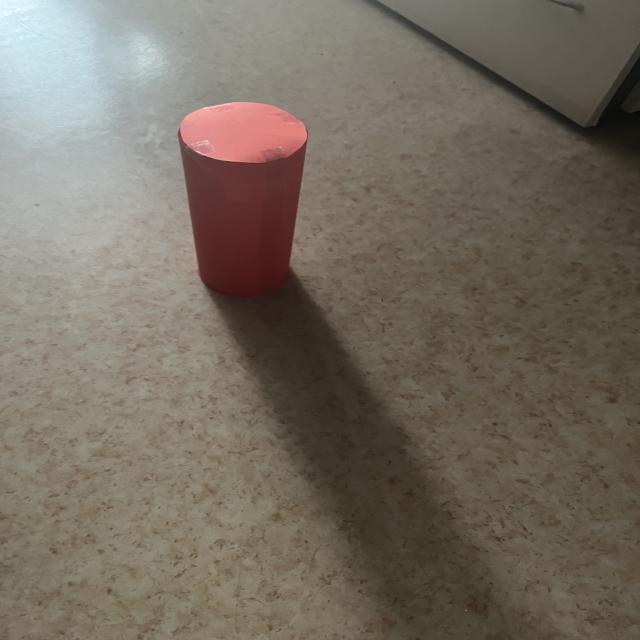przeszkoda: (178, 103, 307, 296)
